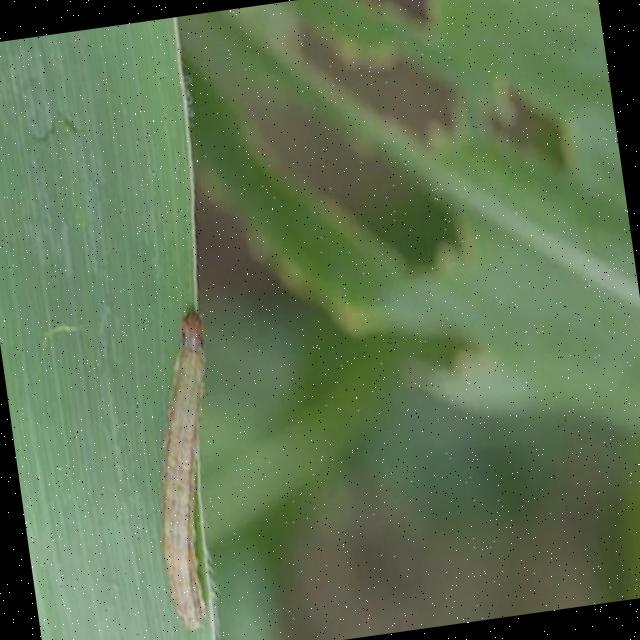worm: (128, 311, 248, 636)
